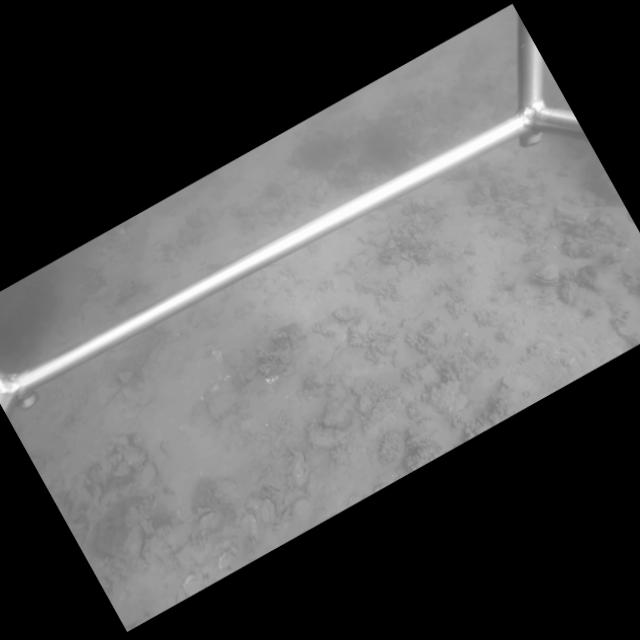Oyster-Closed: (305, 419, 349, 452), (531, 262, 561, 285), (331, 305, 358, 322)
